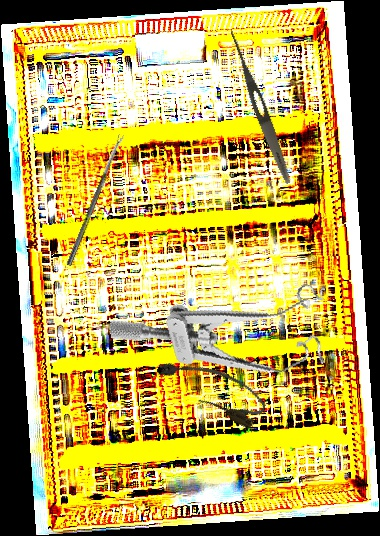Cannula: (152, 343, 271, 432)
Dressing Forceps: (223, 28, 296, 186)
Speculum: (107, 265, 344, 415)
Surgical Spoon: (66, 133, 125, 267)
